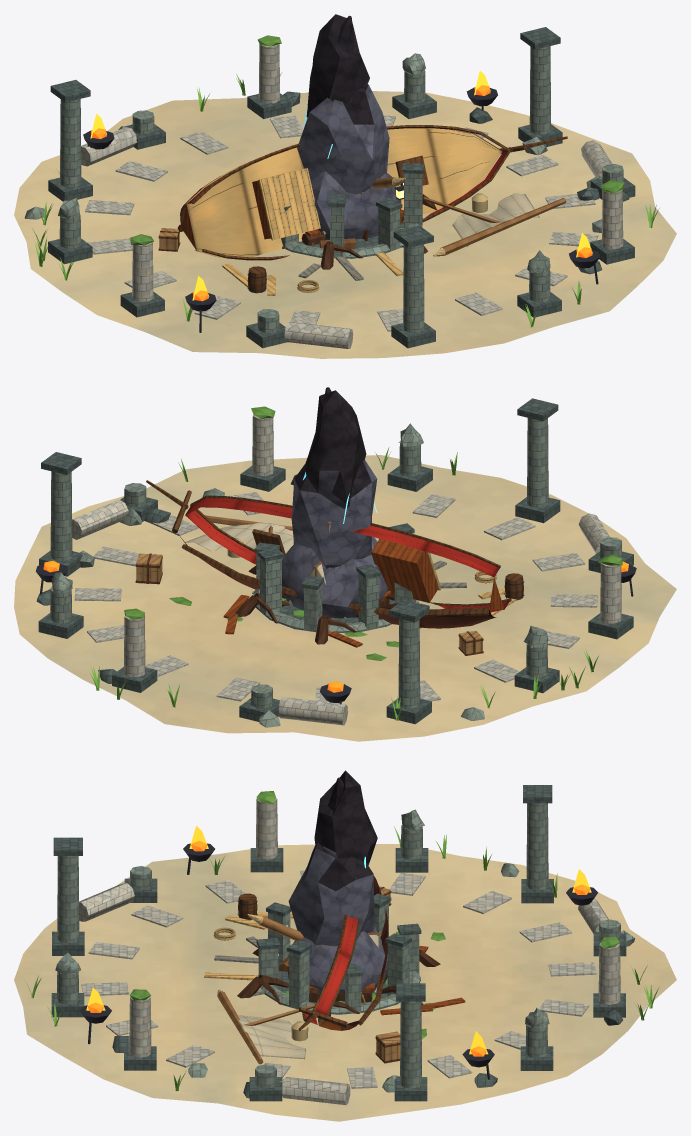
The model's file is special.glb.
3 renders of one model, top to bottom at view 1: azimuth 30°, elevation 25°; view 2: azimuth 150°, elevation 25°; view 3: azimuth 270°, elevation 25°, orthographic.
Parts seen in each view (by area): view 1: BossArena, Shipwreck, StormWallMarker, HeartShrine; view 2: BossArena, Shipwreck, StormWallMarker, HeartShrine; view 3: BossArena, StormWallMarker, Shipwreck, HeartShrine.
Boxes of the visible parts, x1,y1,x2,y2 form: BossArena: (14,27,676,358); Shipwreck: (158,125,567,295); StormWallMarker: (297,14,399,239); HeartShrine: (281,163,437,269); BossArena: (14,398,676,741); Shipwreck: (135,480,524,660); StormWallMarker: (282,387,388,618); HeartShrine: (235,523,421,644); BossArena: (14,785,676,1121); StormWallMarker: (288,770,387,994); Shipwreck: (204,875,465,1064); HeartShrine: (237,893,440,1020).
Bounding box in the file's own units: 20.15 × 8.29 × 20.33.
37 materials, 26 textured.
